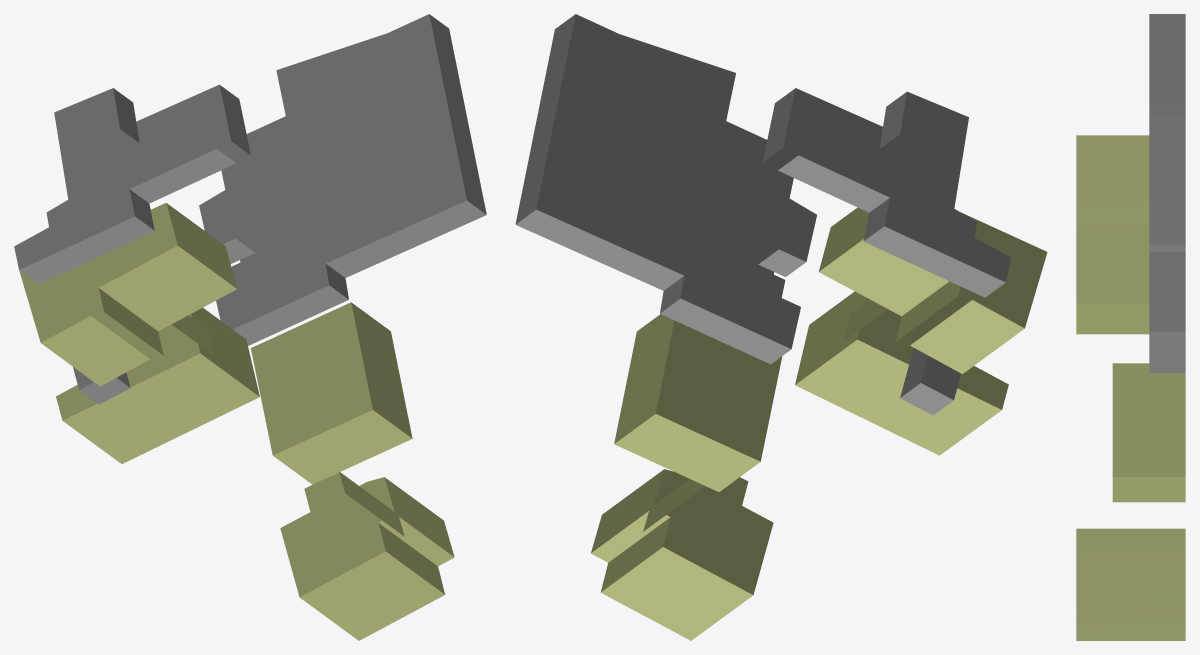
3 views of the same model, side by side, from view 1: azimuth 30°, elevation 25°; view 2: azimuth 150°, elevation 25°; view 3: azimuth 270°, elevation 25° (orthographic). The views are drawn at different scales.
Visible parts, largest first — view 1: 0_1_0_2_0_0_2_0_2; view 2: 0_1_0_2_0_0_2_0_2; view 3: 0_1_0_2_0_0_2_0_2.
Boxes of the visible parts, box(x1,y1,x2,y2) form: 0_1_0_2_0_0_2_0_2: box(14, 14, 486, 640); 0_1_0_2_0_0_2_0_2: box(515, 14, 1047, 640); 0_1_0_2_0_0_2_0_2: box(1076, 14, 1185, 640).
Size of the model in its own units: 39.51 by 46.26 by 9.
